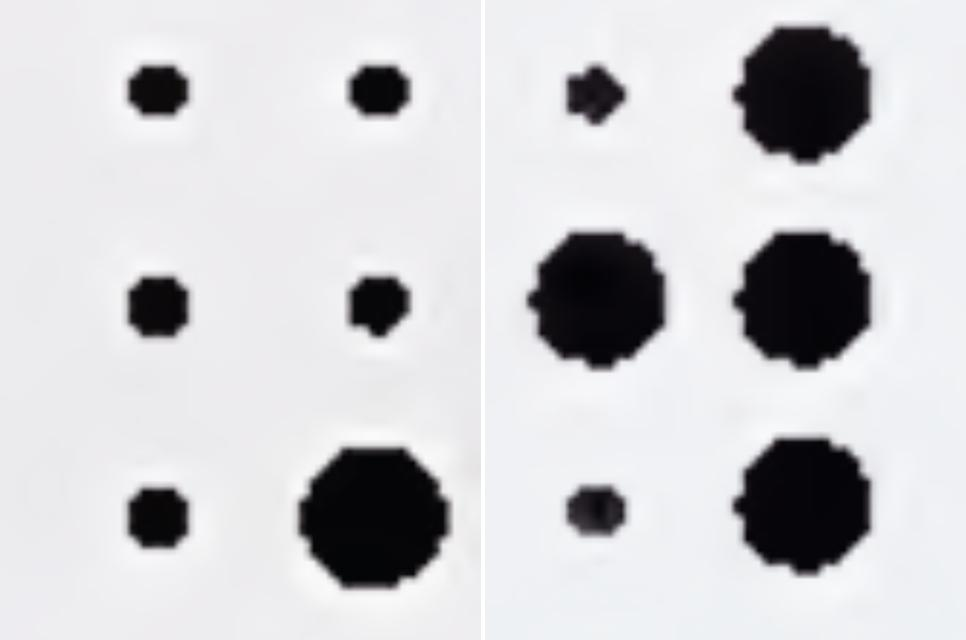capital_sign: (127, 60, 450, 588)
letter_W: (540, 26, 872, 574)
